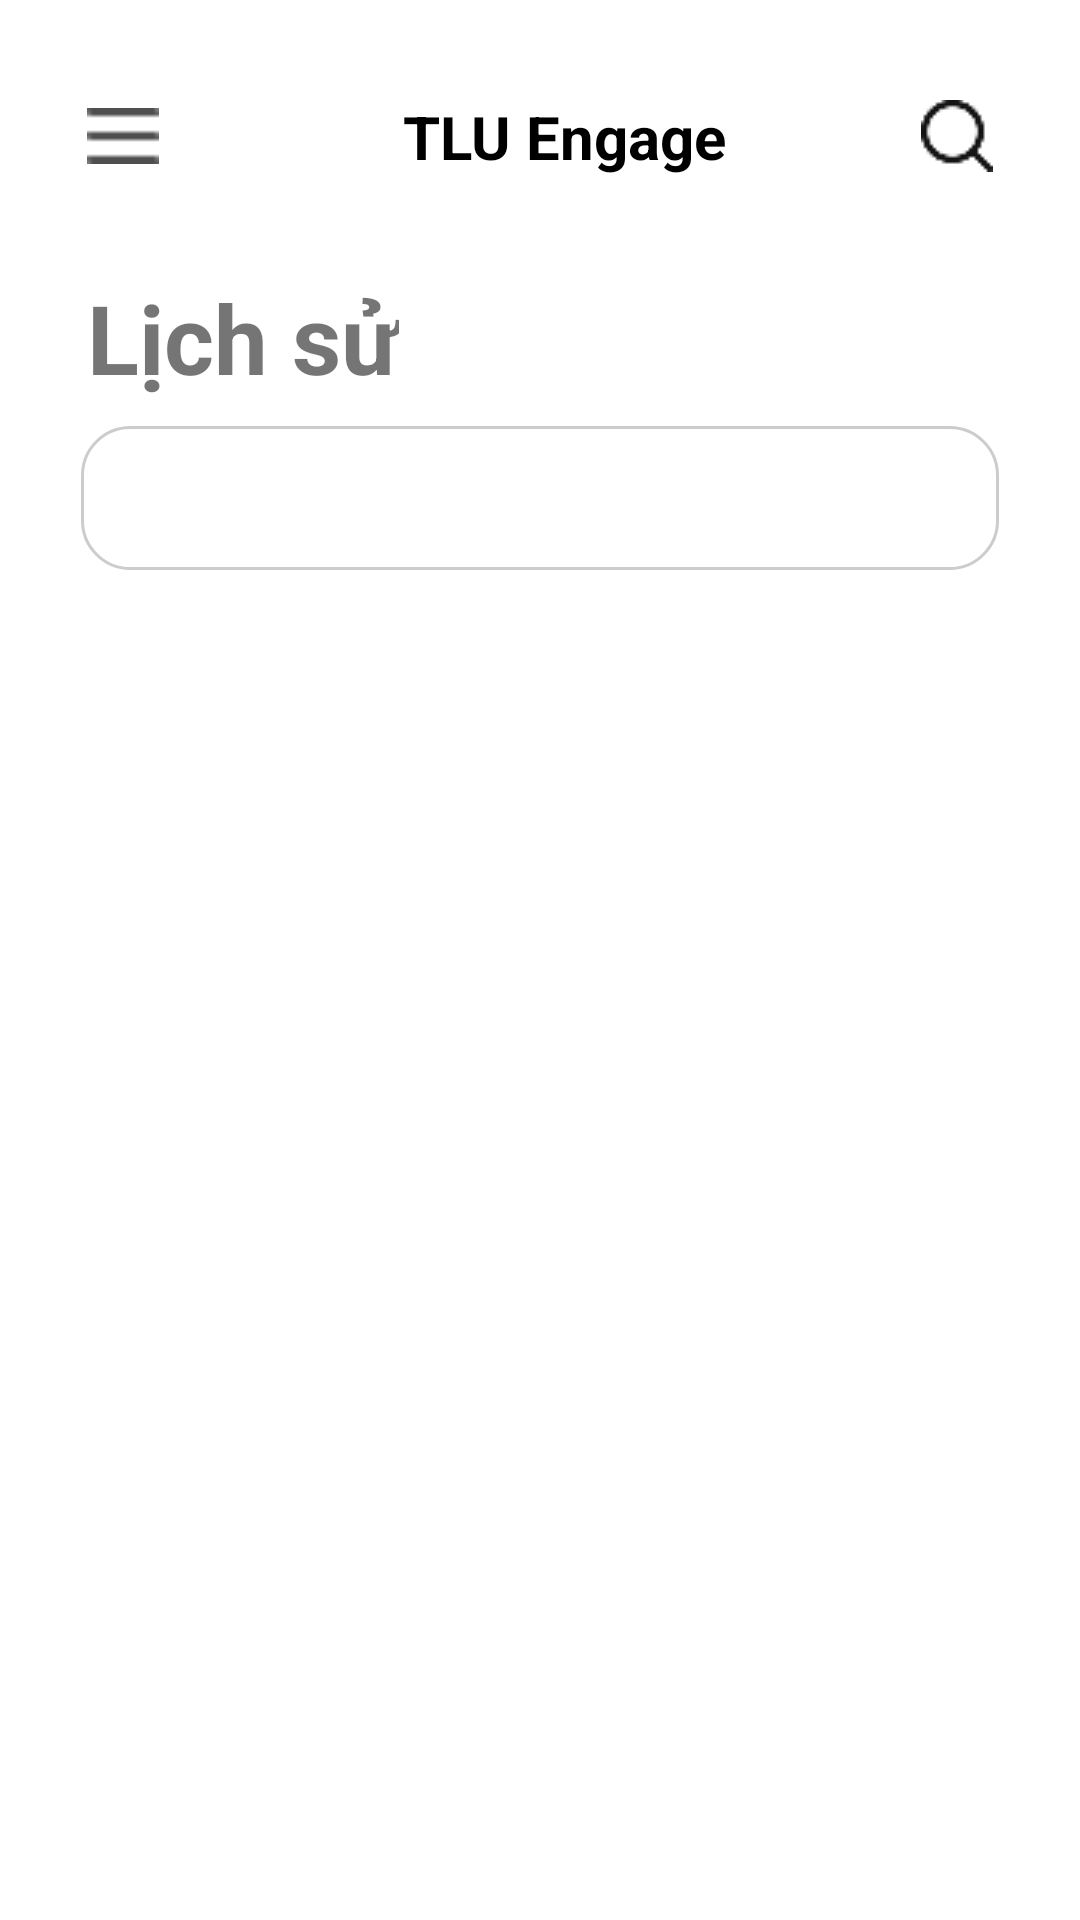

Screen size 1080w x 1920h. Icon name, then its center in pixels as (x,y):
menu: (123,136)
search: (957,136)
